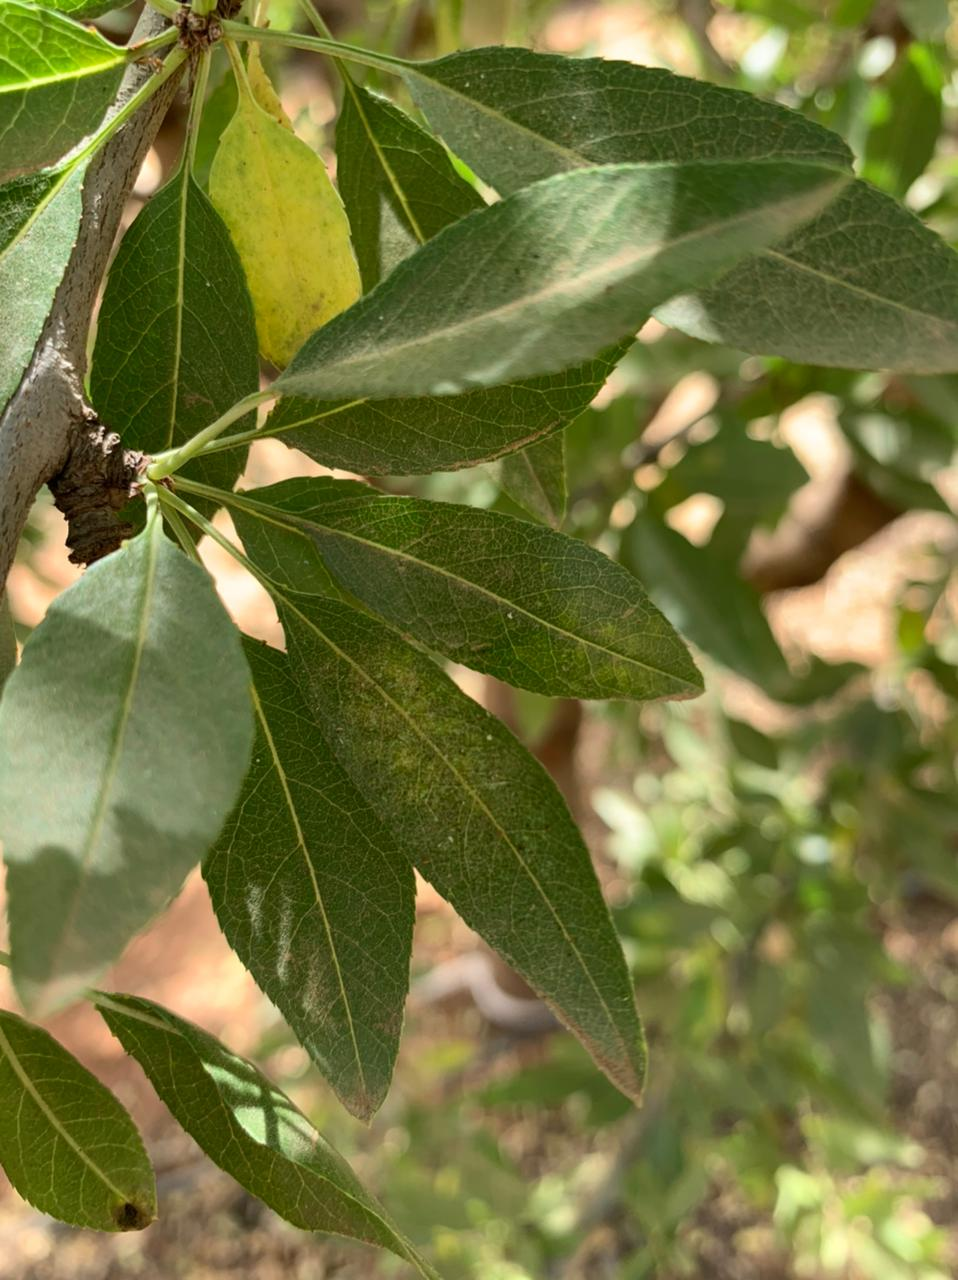acariens: (267, 587, 647, 1110)
othyorinques: (229, 477, 708, 702)
